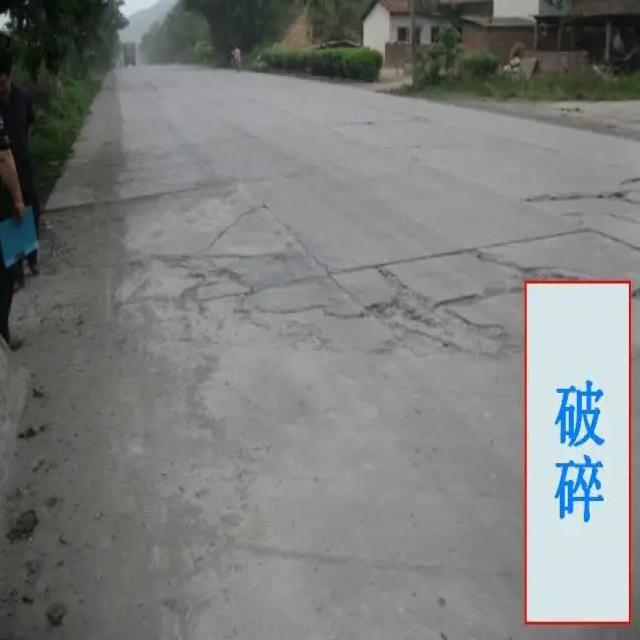Pothole: (182, 212, 591, 382)
